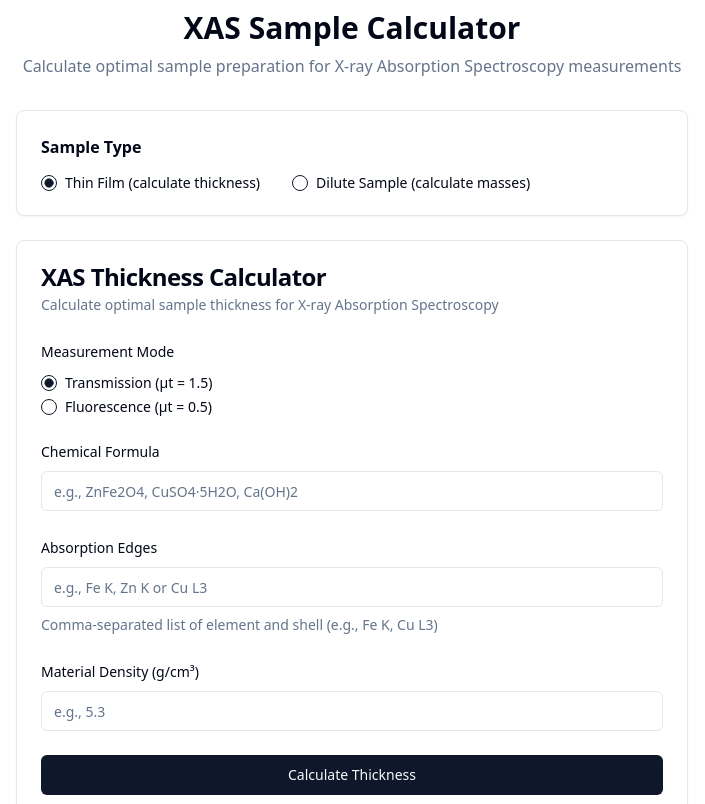
App › should switch between transmission and fluorescence modes
Expected: the radio button named "Transmission" next to "Transmission (μt = 1.5)" is checked, [41, 375, 57, 391]
Note: Switch to Fluorescence
Click the radio button named "Fluorescence" next to "Fluorescence (μt = 0.5)" at x=49, y=407, box [41, 399, 57, 415]
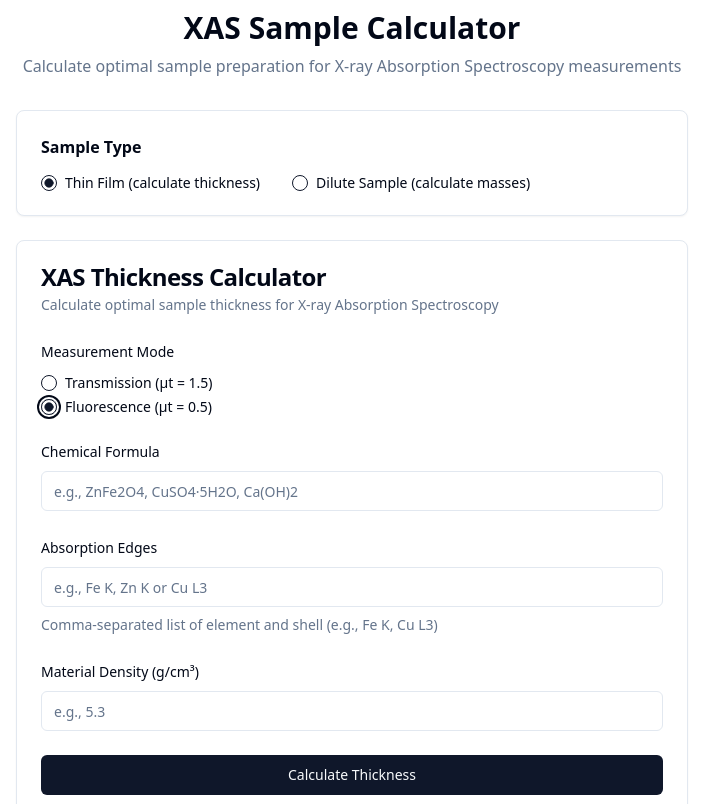
Expected: the radio button named "Fluorescence" next to "Fluorescence (μt = 0.5)" is checked, [41, 399, 57, 415]
Expected: the radio button named "Transmission" next to "Transmission (μt = 1.5)" is not checked, [41, 375, 57, 391]
